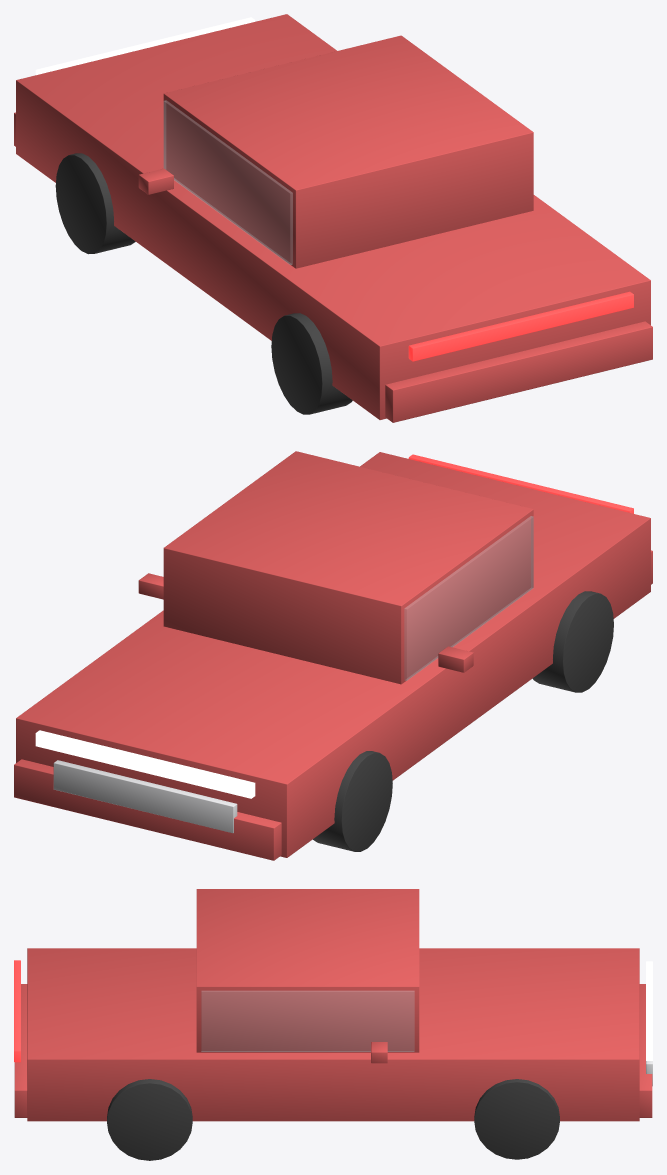
Rendered from vehicle.glb.
3 renders of one model, top to bottom at view 1: azimuth 30°, elevation 25°; view 2: azimuth 150°, elevation 25°; view 3: azimuth 270°, elevation 25°, orthographic. The views are drawn at different scales.
Parts seen in each view (by area): view 1: BODY_Main, BODY_Roof, BODY_Bumpers_Rear, GLASS_Greenhouse, WHEEL_RR_Tire, WHEEL_FR_Tire, LIGHT_Taillights, LIGHT_Headlights, BODY_Mirror_R; view 2: BODY_Main, BODY_Roof, GLASS_Greenhouse, BODY_Bumpers_Front, BODY_Grille, WHEEL_RR_Tire, WHEEL_FR_Tire, LIGHT_Headlights, LIGHT_Taillights, BODY_Mirror_R; view 3: BODY_Main, BODY_Roof, GLASS_Greenhouse, WHEEL_RL_Tire, WHEEL_FL_Tire, BODY_Bumpers_Rear, BODY_Bumpers_Front, LIGHT_Taillights, LIGHT_Headlights.
Boxes of the visible parts, box(x1,y1,x2,y2) form: BODY_Main: box(16, 14, 650, 419); BODY_Roof: box(163, 35, 533, 268); BODY_Bumpers_Rear: box(385, 321, 652, 422); GLASS_Greenhouse: box(163, 100, 292, 264); WHEEL_RR_Tire: box(271, 313, 352, 414); WHEEL_FR_Tire: box(55, 153, 135, 254); LIGHT_Taillights: box(408, 291, 633, 361); LIGHT_Headlights: box(35, 17, 255, 75); BODY_Mirror_R: box(138, 168, 173, 194); BODY_Main: box(16, 452, 650, 857); BODY_Roof: box(163, 451, 533, 684); GLASS_Greenhouse: box(404, 516, 533, 680); BODY_Bumpers_Front: box(14, 759, 281, 860); BODY_Grille: box(53, 760, 237, 833); WHEEL_RR_Tire: box(532, 591, 613, 692); WHEEL_FR_Tire: box(313, 751, 392, 851); LIGHT_Headlights: box(35, 730, 255, 798); LIGHT_Taillights: box(408, 454, 633, 513); BODY_Mirror_R: box(438, 646, 473, 672); BODY_Main: box(27, 948, 639, 1121); BODY_Roof: box(196, 889, 419, 1052); GLASS_Greenhouse: box(201, 991, 414, 1051); WHEEL_RL_Tire: box(107, 1079, 192, 1160); WHEEL_FL_Tire: box(474, 1079, 559, 1159); BODY_Bumpers_Rear: box(14, 984, 27, 1117); BODY_Bumpers_Front: box(639, 984, 652, 1117); LIGHT_Taillights: box(14, 960, 20, 1062); LIGHT_Headlights: box(646, 961, 652, 1060).
Bounding box in the file's own units: 2.28 × 1.3 × 4.61.
